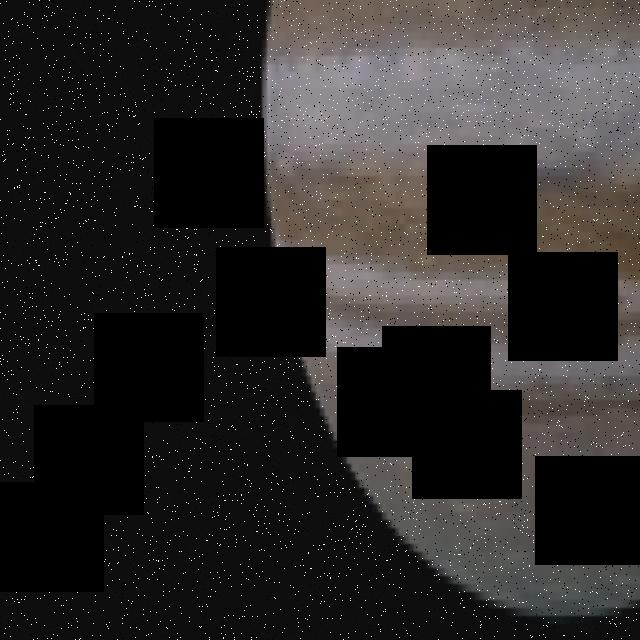Jupiter: (267, 0, 640, 624)
